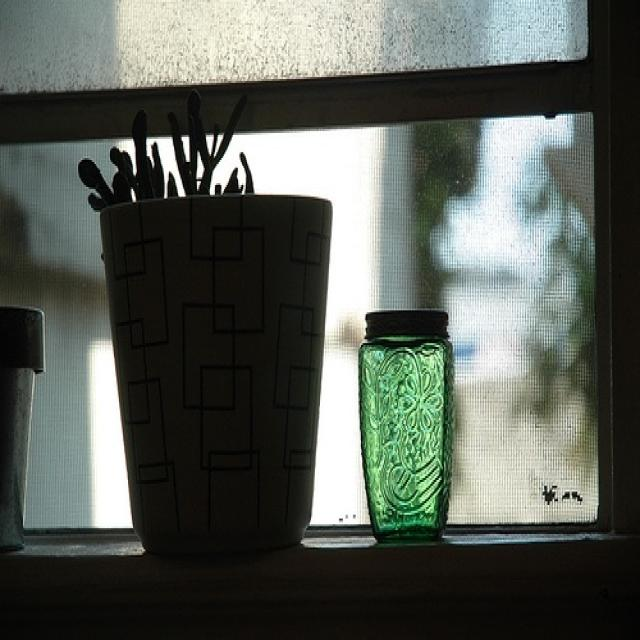pottedplant: (80, 80, 334, 552)
